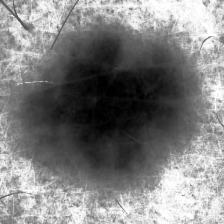Benign Marking or Mole: (43, 43, 192, 170)
